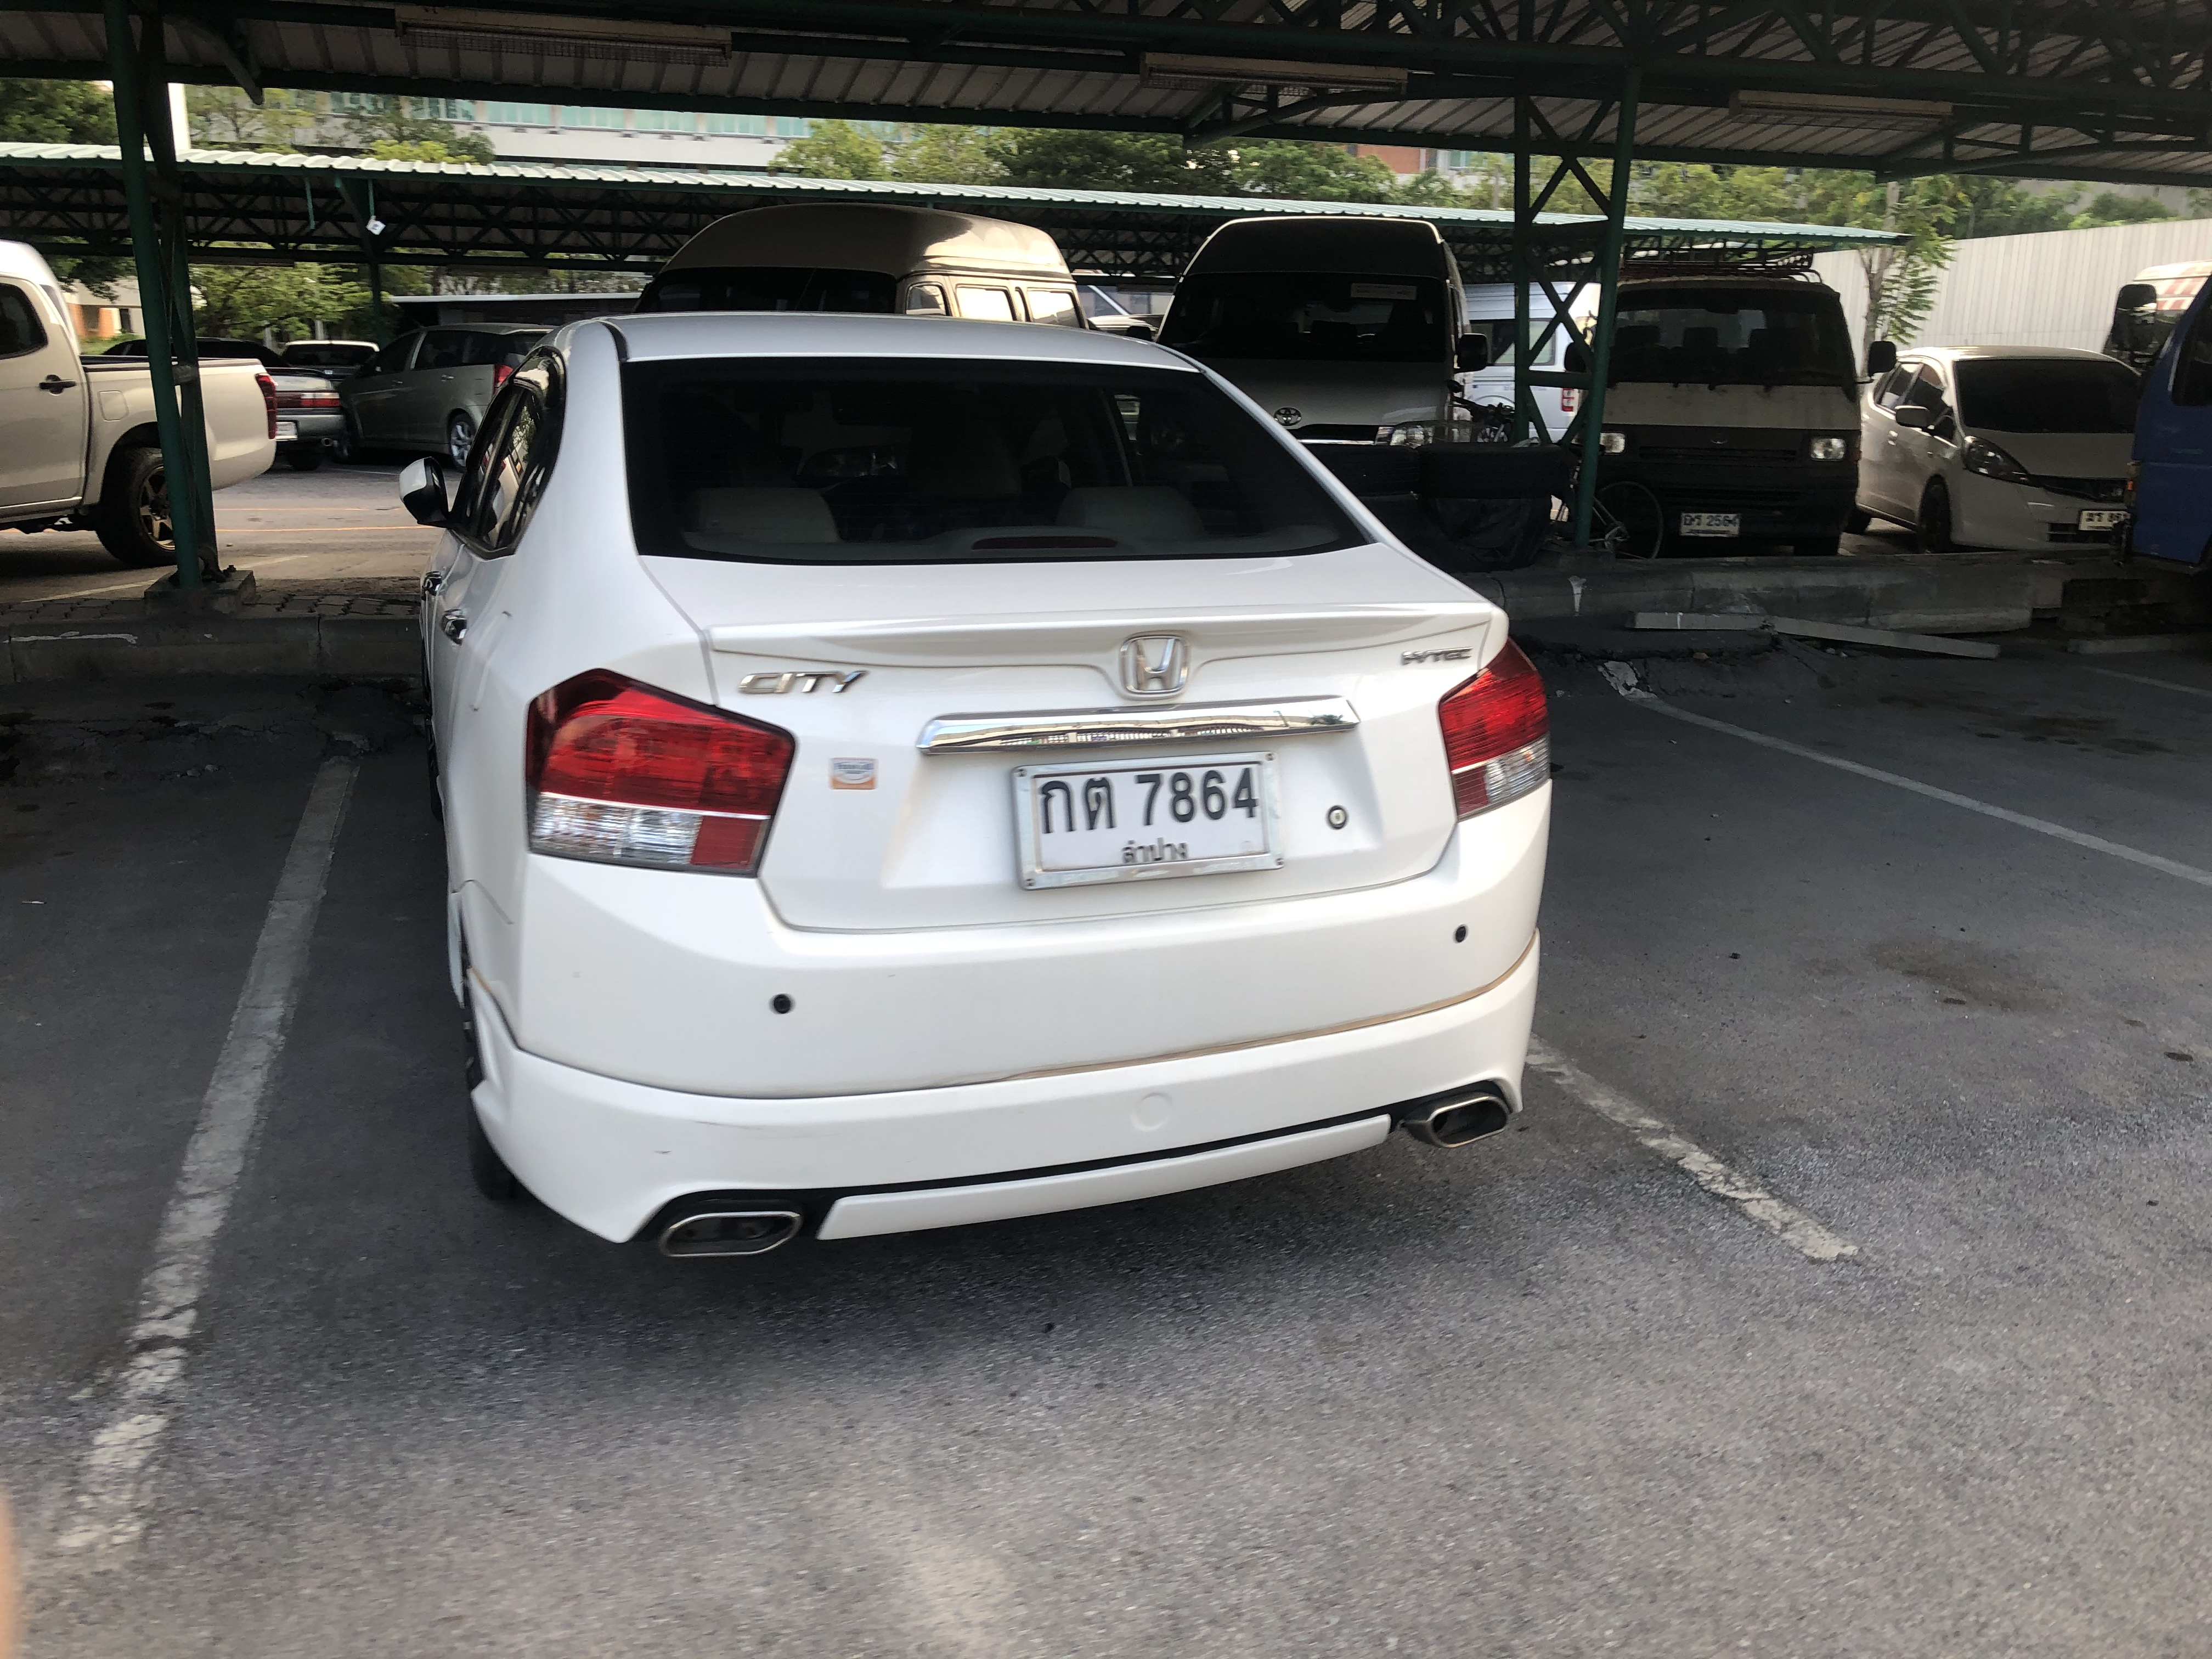in: (1035, 769, 1263, 864)
out: (1005, 749, 1285, 894)
